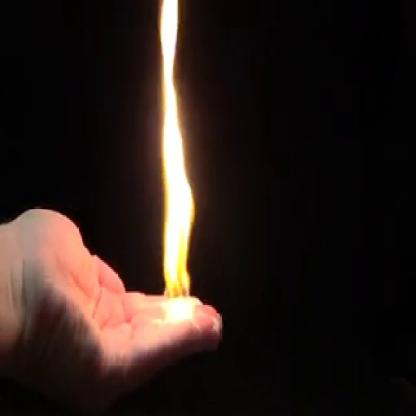fire: (148, 0, 200, 331)
